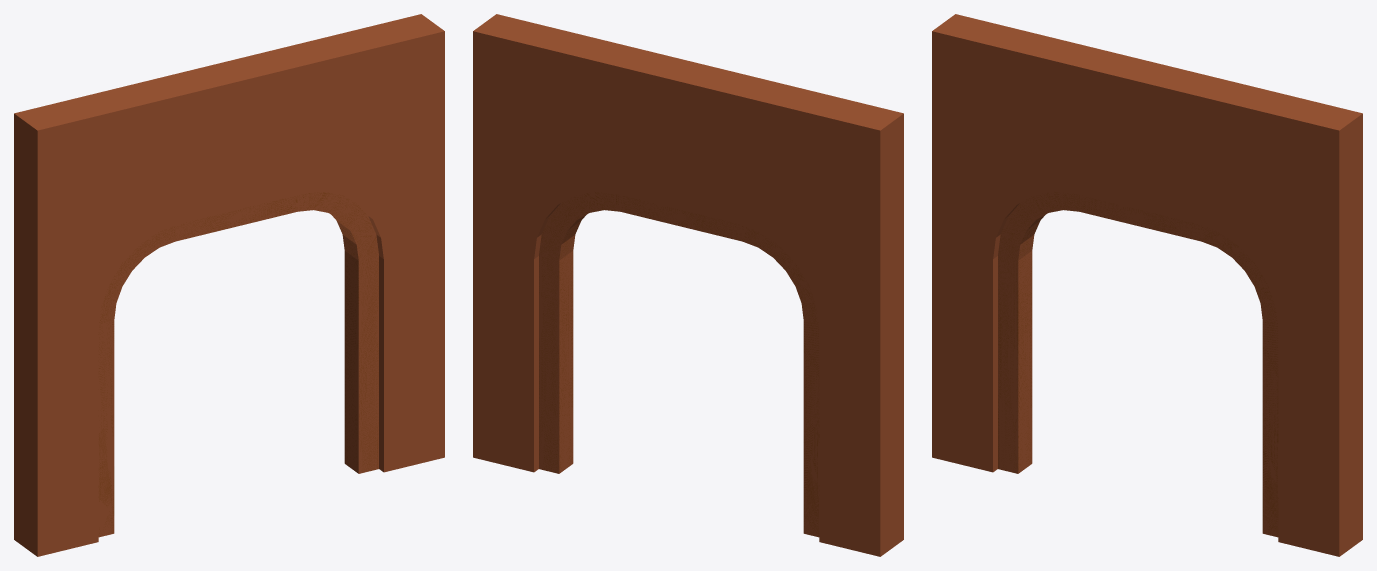
Rendered from doorway_double_rounded.fbx.
3 renders of one model, left to right at view 1: azimuth 30°, elevation 25°; view 2: azimuth 150°, elevation 25°; view 3: azimuth 330°, elevation 25°, orthographic.
Parts seen in each view (by area): view 1: Mesh1_wall_8_1 Model; view 2: Mesh1_wall_8_1 Model; view 3: Mesh1_wall_8_1 Model.
Boxes of the visible parts, x1,y1,x2,y2 form: Mesh1_wall_8_1 Model: (14,14,444,556); Mesh1_wall_8_1 Model: (473,14,903,556); Mesh1_wall_8_1 Model: (932,14,1362,556).
Bounding box in the file's own units: 1 × 1 × 0.1.
